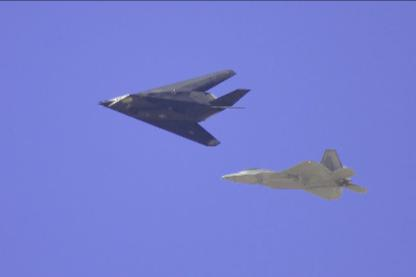E7: (96, 68, 250, 145)
F18: (220, 148, 368, 199)
